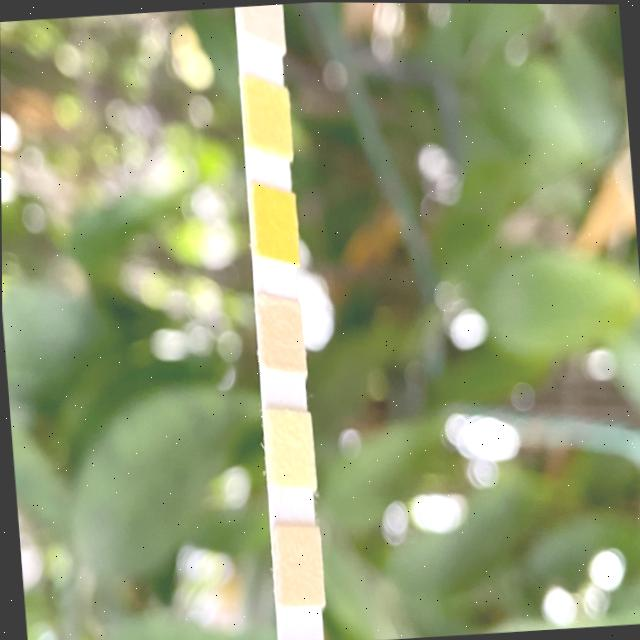Blood: (251, 194, 297, 253)
Ketone: (240, 3, 283, 31)
Protein: (264, 414, 313, 485)
SpGravity: (244, 89, 289, 143)
Urobilinogen: (272, 530, 322, 602)
pH: (257, 302, 304, 364)
